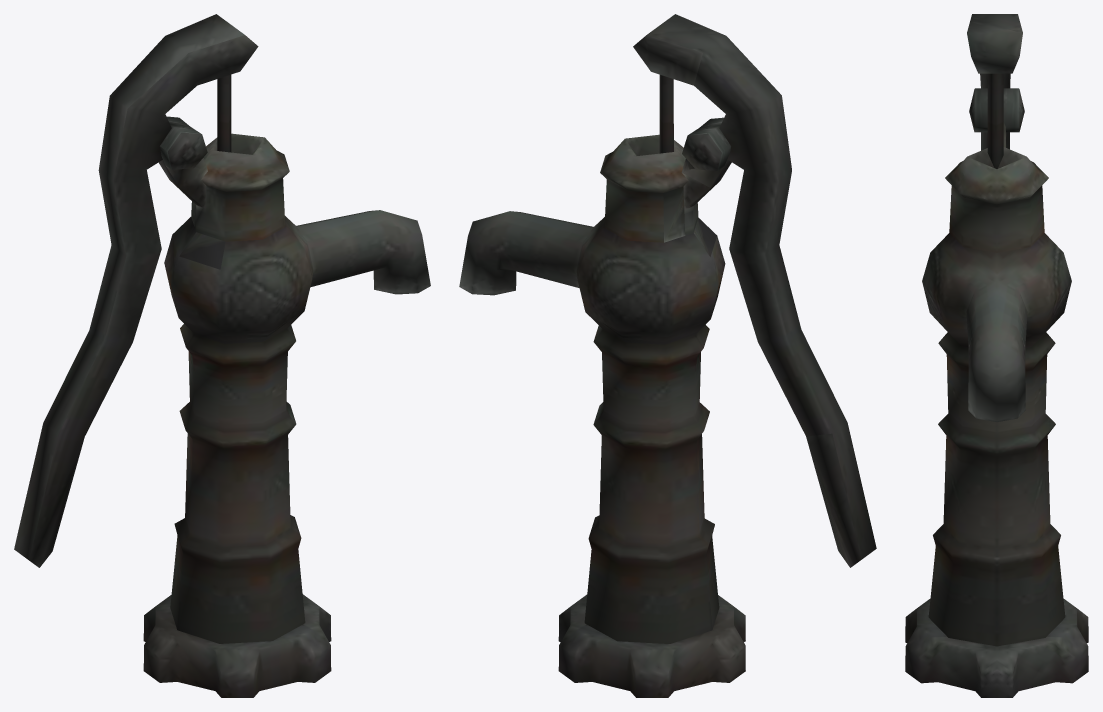
3 views of the same model, side by side, from view 1: azimuth 30°, elevation 25°; view 2: azimuth 150°, elevation 25°; view 3: azimuth 270°, elevation 25° (orthographic). The views are drawn at different scales.
Bounding box in the file's own units: 0.9311 × 1.39 × 0.3714.
1 material, 1 textured.
